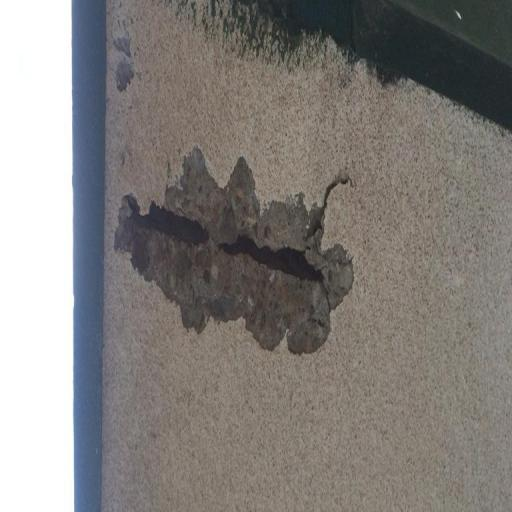spalling: (116, 127, 380, 387)
